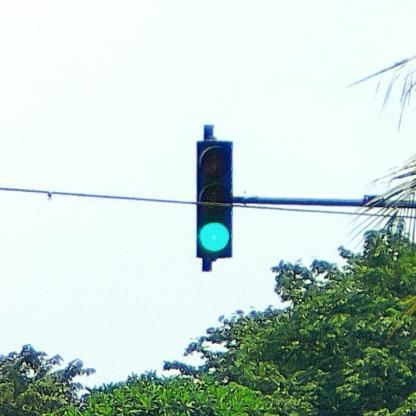green: (196, 140, 233, 260)
